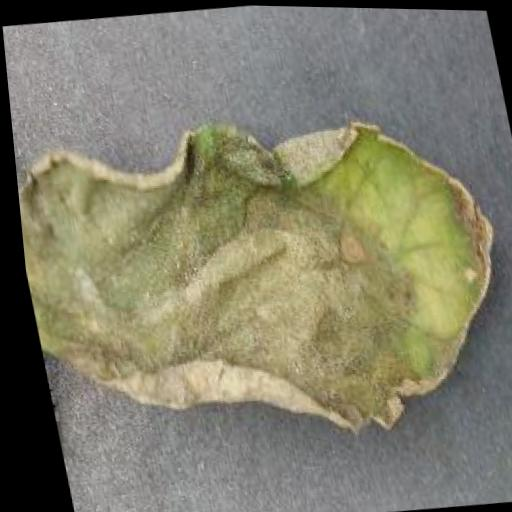Late Blight: (6, 83, 512, 462)
